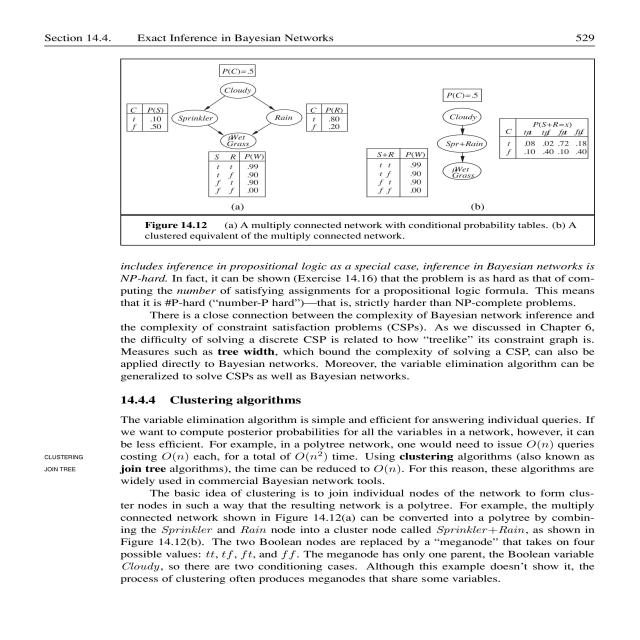diagram: (119, 59, 593, 244)
